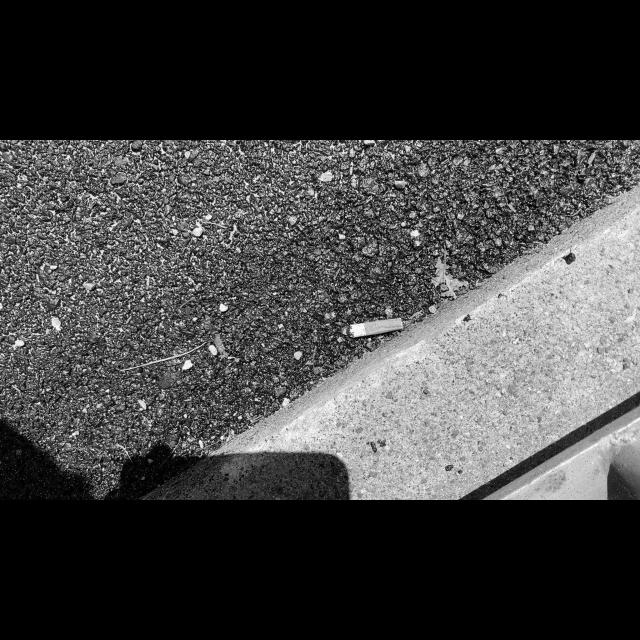cigarette: (349, 317, 403, 338)
